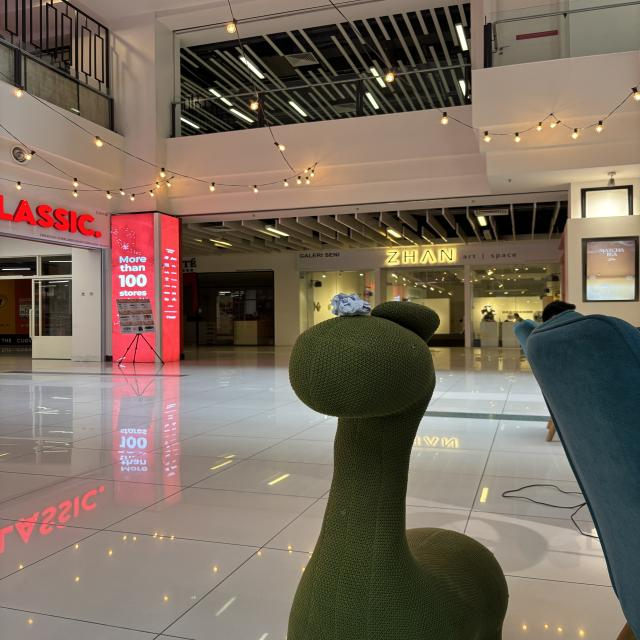crumpled_paper: (328, 291, 372, 318)
